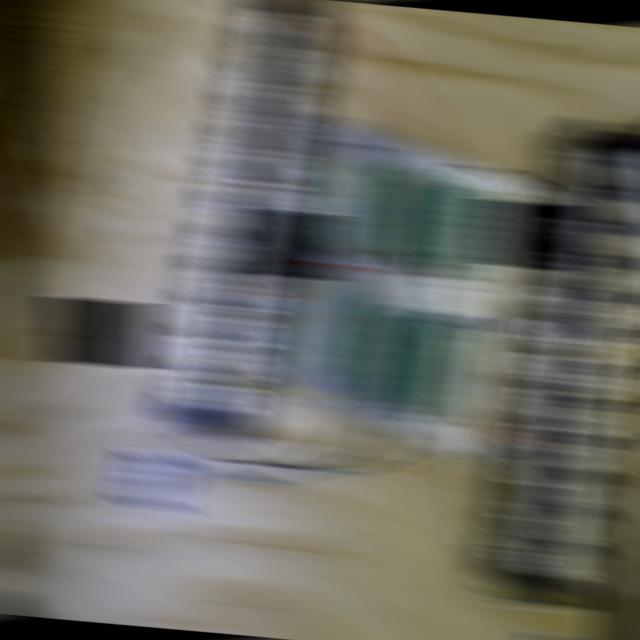Flathead_Block: (160, 0, 329, 440)
Phillips_Block: (501, 117, 640, 610)
Terminal_1: (299, 271, 357, 376), (320, 152, 379, 255)
Terminal_2: (412, 320, 469, 419), (355, 298, 412, 397), (383, 309, 439, 408), (409, 170, 465, 268), (382, 161, 438, 258)
